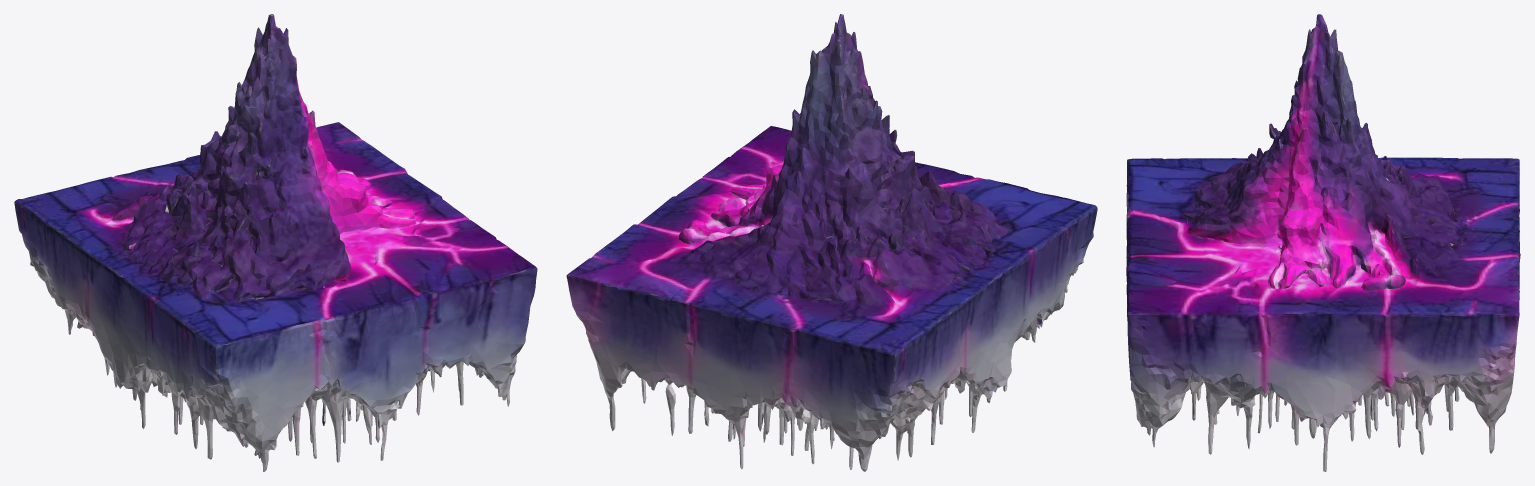
File: solitude-plateau-generated-2026-04-19T18-12-34-007Z.low.glb
3 views of the same model, side by side, from view 1: azimuth 30°, elevation 25°; view 2: azimuth 150°, elevation 25°; view 3: azimuth 270°, elevation 25° (orthographic). The views are drawn at different scales.
Parts seen in each view (by area): view 1: temp_mesh.ply; view 2: temp_mesh.ply; view 3: temp_mesh.ply.
Part boxes in pixels (left/top/right/bottom): temp_mesh.ply: left=14, top=14, right=537, bottom=471; temp_mesh.ply: left=566, top=14, right=1097, bottom=471; temp_mesh.ply: left=1126, top=14, right=1520, bottom=471.
Bounding box in the file's own units: 1.78 × 1.98 × 1.87.
1 material, 1 textured.
